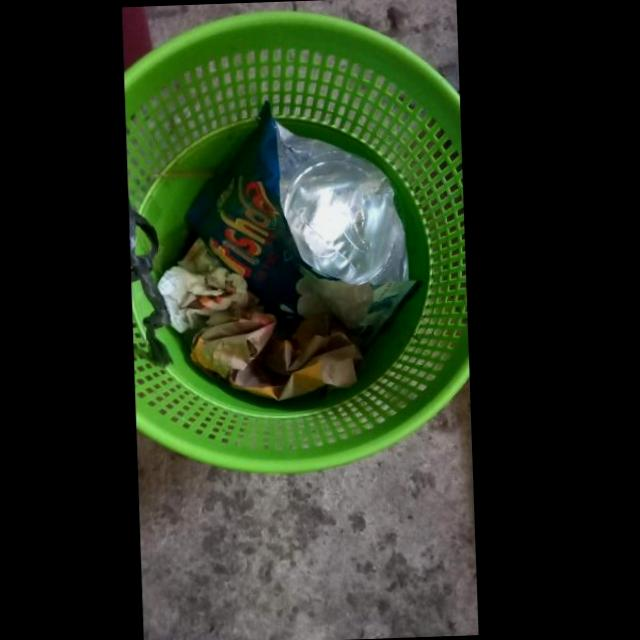bao_bi_thuc_pham: (186, 101, 415, 354)
giay: (191, 312, 363, 401), (157, 237, 260, 333)
